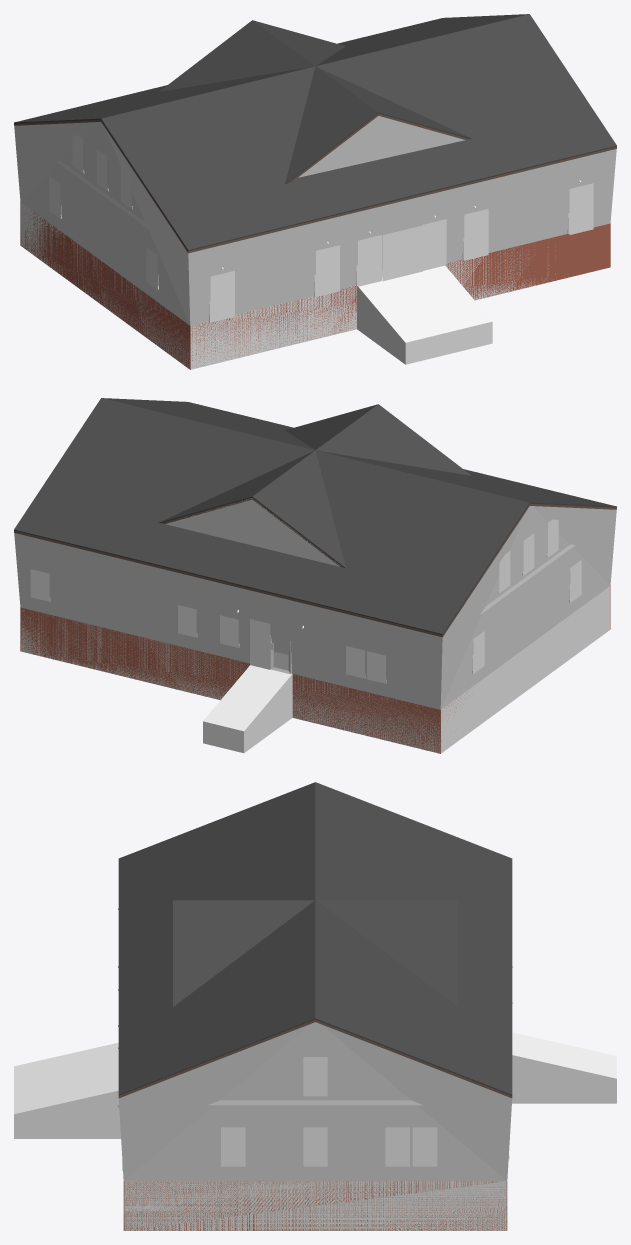
The model's file is eca_bld_grocerystore.dae.
The picture shows the model from 3 angles, top to bottom: view 1: azimuth 30°, elevation 25°; view 2: azimuth 150°, elevation 25°; view 3: azimuth 270°, elevation 25°; orthographic projection. The views are drawn at different scales.
Parts seen in each view (by area): view 1: eca_bld_grocerystore_a600, eca_bld_grocerystore_a60, eca_bld_grocerystore_a200; view 2: eca_bld_grocerystore_a600, eca_bld_grocerystore_a60, eca_bld_grocerystore_a200; view 3: eca_bld_grocerystore_a600, eca_bld_grocerystore_a60, eca_bld_grocerystore_a200.
Boxes of the visible parts, left/top/right/bottom form: eca_bld_grocerystore_a600: left=14, top=14, right=616, bottom=369; eca_bld_grocerystore_a60: left=14, top=116, right=616, bottom=325; eca_bld_grocerystore_a200: left=20, top=135, right=610, bottom=369; eca_bld_grocerystore_a600: left=14, top=398, right=616, bottom=753; eca_bld_grocerystore_a60: left=14, top=498, right=616, bottom=753; eca_bld_grocerystore_a200: left=20, top=519, right=610, bottom=753; eca_bld_grocerystore_a600: left=14, top=782, right=616, bottom=1230; eca_bld_grocerystore_a60: left=118, top=1022, right=512, bottom=1230; eca_bld_grocerystore_a200: left=14, top=1042, right=507, bottom=1230.
Bounding box in the file's own units: 20.4 × 22 × 8.65.
